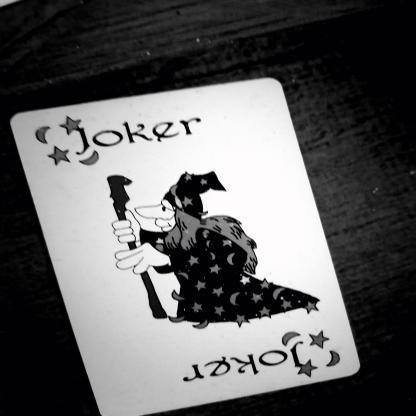BLACK JOKER: (148, 323, 344, 406), (21, 102, 203, 173)
